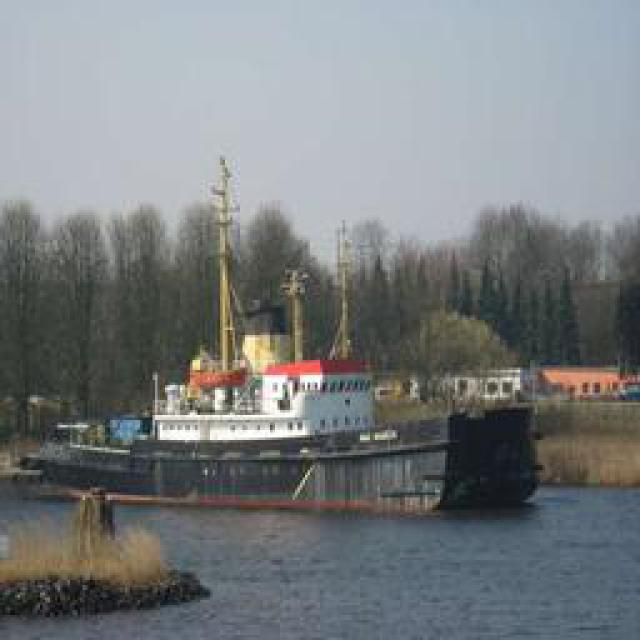Ship: (17, 359, 550, 520)
